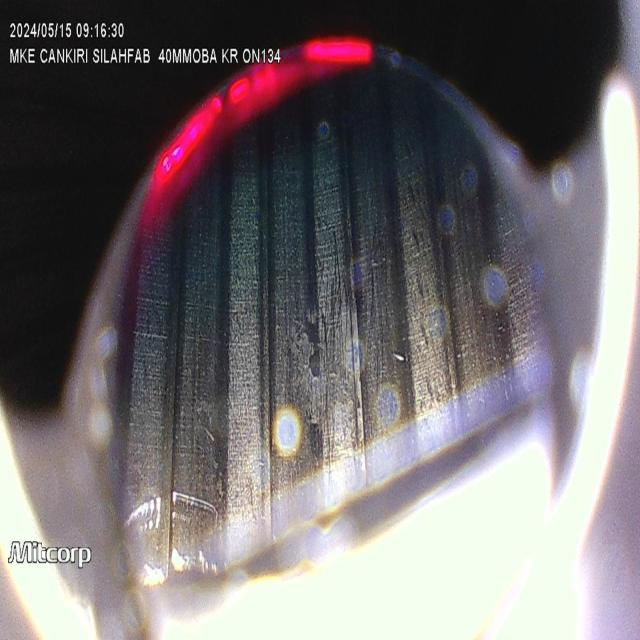hata_8.1: (293, 296, 335, 401)
hata_9.3: (264, 368, 360, 443)
